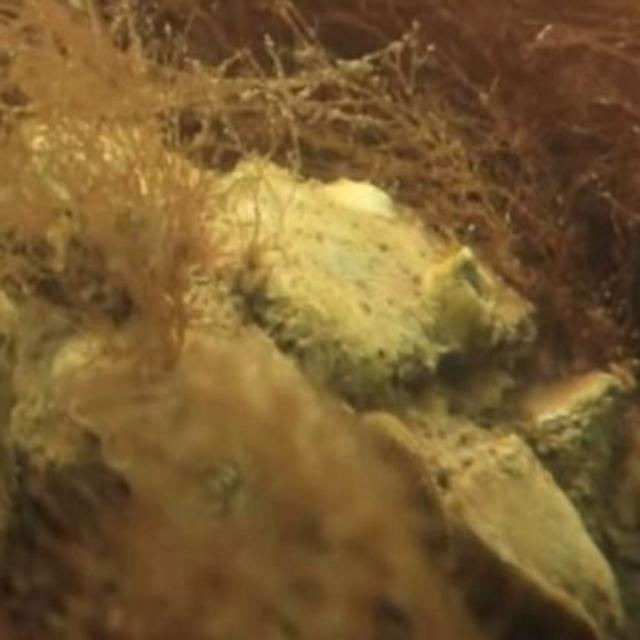Oyster-Closed: (221, 182, 534, 401), (374, 406, 630, 638), (507, 372, 630, 449)
